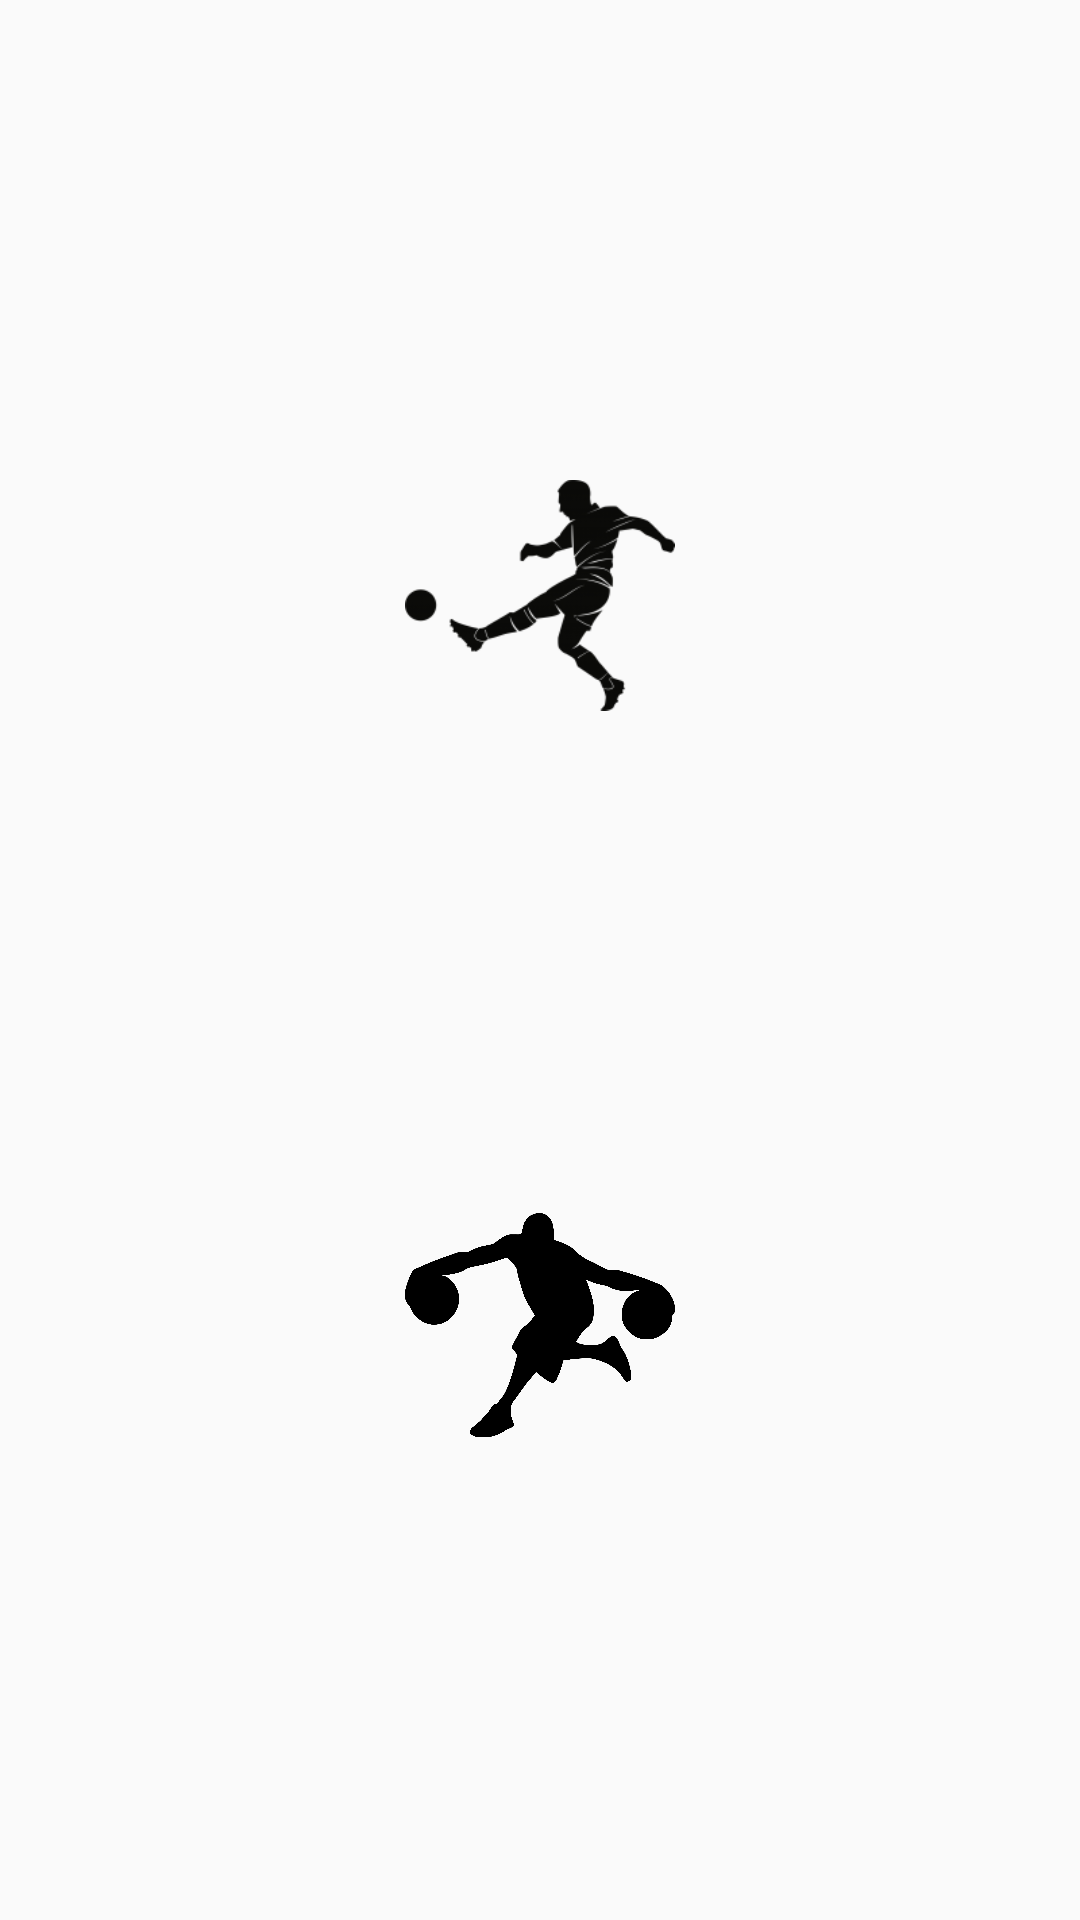

Where to tap for icons on this 1080w x 1920h app screen, as (x=x, y=y):
Basketball Scores: (x=540, y=1325)
Football Scores: (x=540, y=595)
